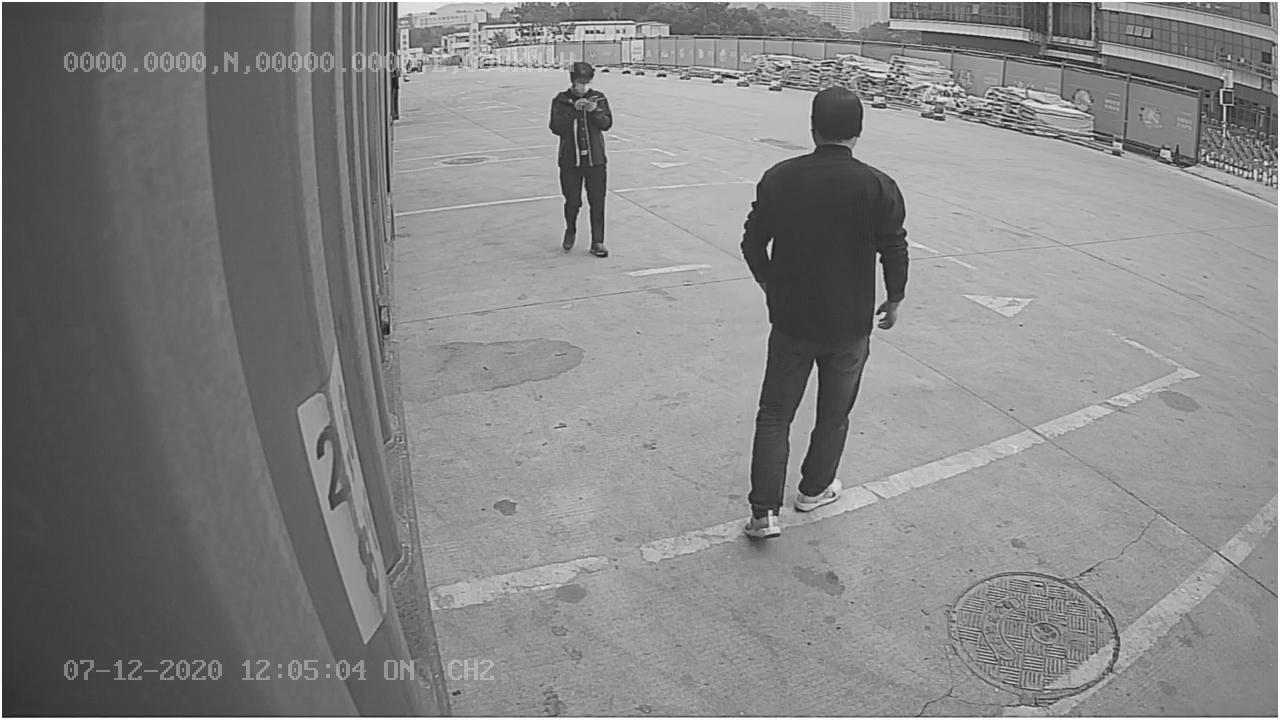person: (737, 83, 915, 545)
